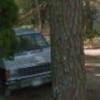cars: (2, 26, 52, 90)
